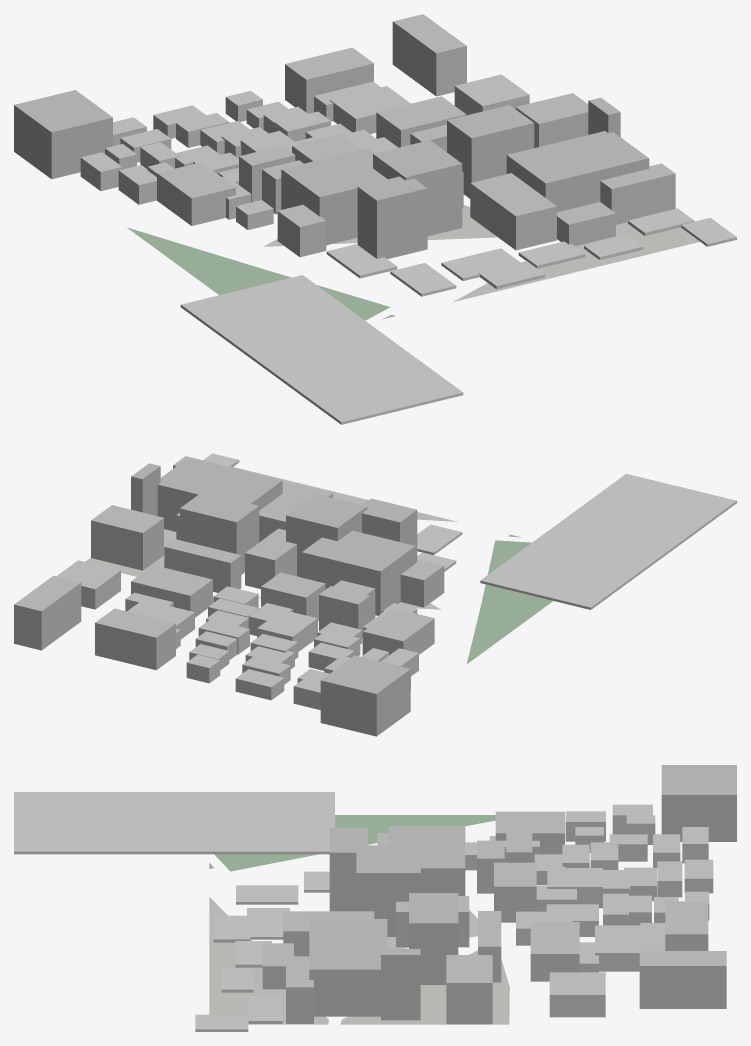
File: 113_78_mid.glb
3 views of the same model, one above another, from view 1: azimuth 30°, elevation 25°; view 2: azimuth 150°, elevation 25°; view 3: azimuth 270°, elevation 25° (orthographic). The views are drawn at different scales.
Size of the model in its own units: 565 by 73.18 by 728.
